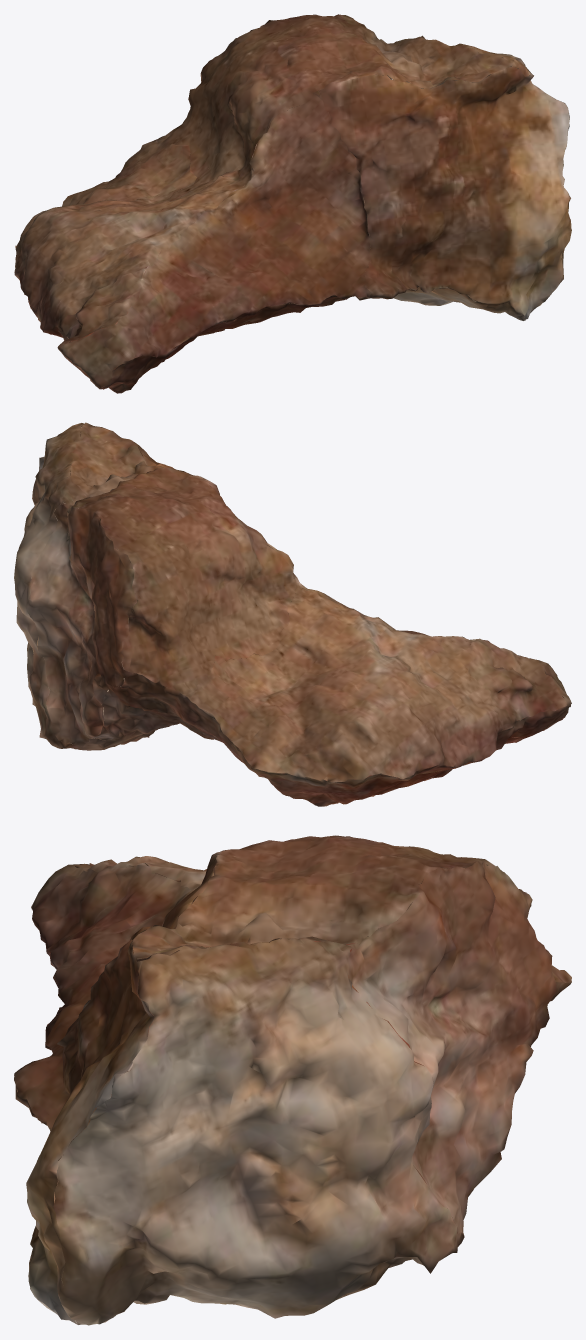
File: stone_01.glb
3 renders of one model, top to bottom at view 1: azimuth 30°, elevation 25°; view 2: azimuth 150°, elevation 25°; view 3: azimuth 270°, elevation 25°, orthographic. The views are drawn at different scales.
Visible parts, largest first — view 1: stone_01; view 2: stone_01; view 3: stone_01.
Part boxes in pixels (x1,y1,x2,y2): stone_01: [14, 14, 571, 393]; stone_01: [14, 422, 571, 806]; stone_01: [14, 835, 571, 1325].
Size of the model in its own units: 0.1469 by 0.0717 by 0.089.
Materials: 1 (1 with a texture image).
